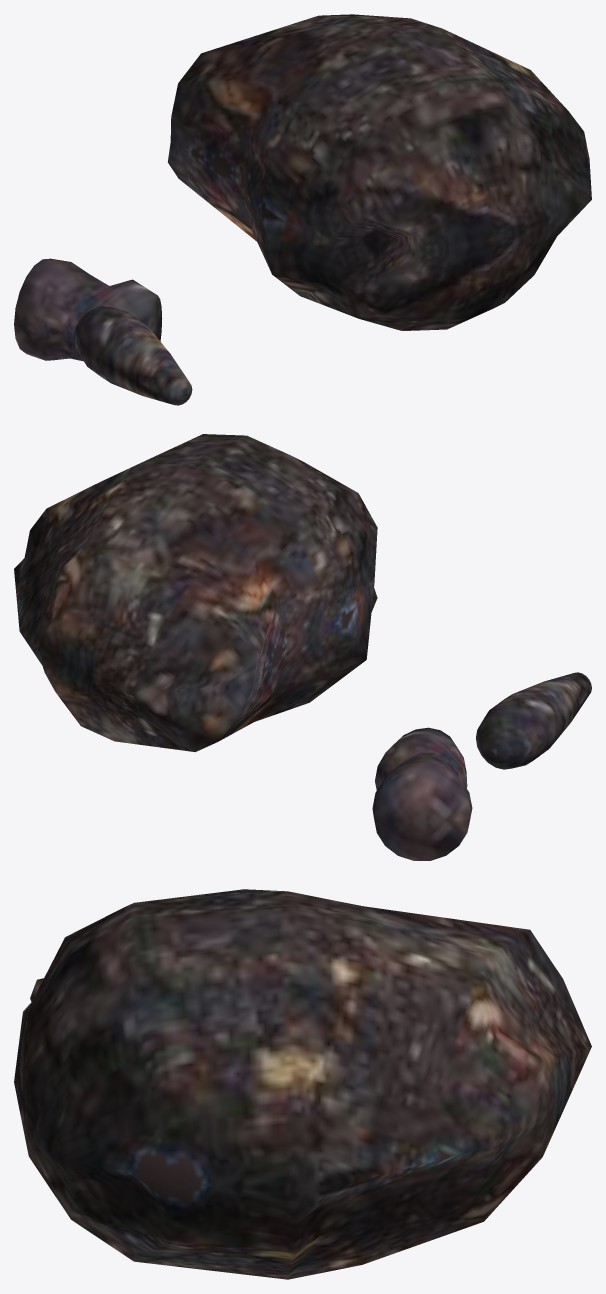
File: meiyao.FBX
3 renders of one model, top to bottom at view 1: azimuth 30°, elevation 25°; view 2: azimuth 150°, elevation 25°; view 3: azimuth 270°, elevation 25°, orthographic. The views are drawn at different scales.
Parts seen in each view (by area): view 1: Sphere001, Cylinder001, Cylinder002; view 2: Sphere001, Cylinder001, Cylinder002; view 3: Sphere001.
Boxes of the visible parts, bbox=[...] form: Sphere001: bbox=[168, 14, 591, 330]; Cylinder001: bbox=[14, 258, 162, 361]; Cylinder002: bbox=[73, 306, 192, 405]; Sphere001: bbox=[14, 434, 377, 752]; Cylinder001: bbox=[372, 727, 472, 860]; Cylinder002: bbox=[476, 672, 591, 769]; Sphere001: bbox=[14, 889, 591, 1279].
Bounding box in the file's own units: 391 × 217 × 295.
1 material, 1 textured.
